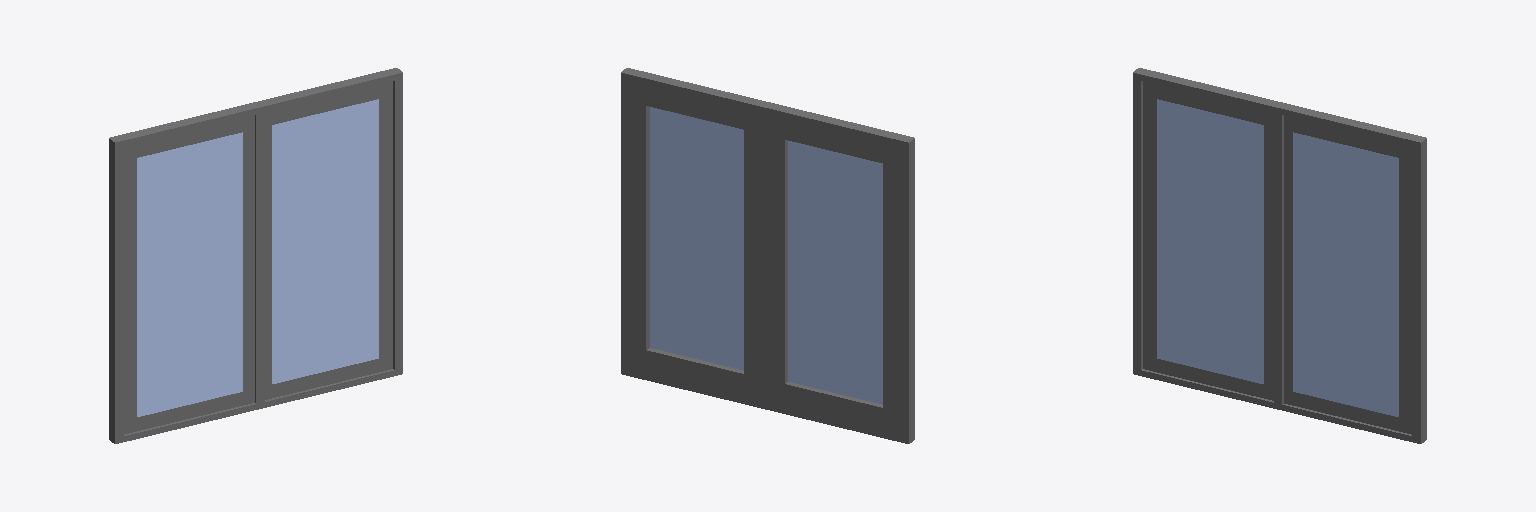
The model's file is Wall_baseWWindow_001_obj.obj.
The picture shows the model from 3 angles: view 1: azimuth 30°, elevation 25°; view 2: azimuth 150°, elevation 25°; view 3: azimuth 330°, elevation 25°; orthographic projection.
Parts seen in each view (by area): view 1: Wall_baseWWindow_001_obj.obj; view 2: Wall_baseWWindow_001_obj.obj; view 3: Wall_baseWWindow_001_obj.obj.
Boxes of the visible parts, x1=… form: Wall_baseWWindow_001_obj.obj: x1=109, y1=68, x2=402, y2=443; Wall_baseWWindow_001_obj.obj: x1=621, y1=68, x2=914, y2=443; Wall_baseWWindow_001_obj.obj: x1=1133, y1=68, x2=1426, y2=443.
Size of the model in its own units: 398 by 398 by 15.94.